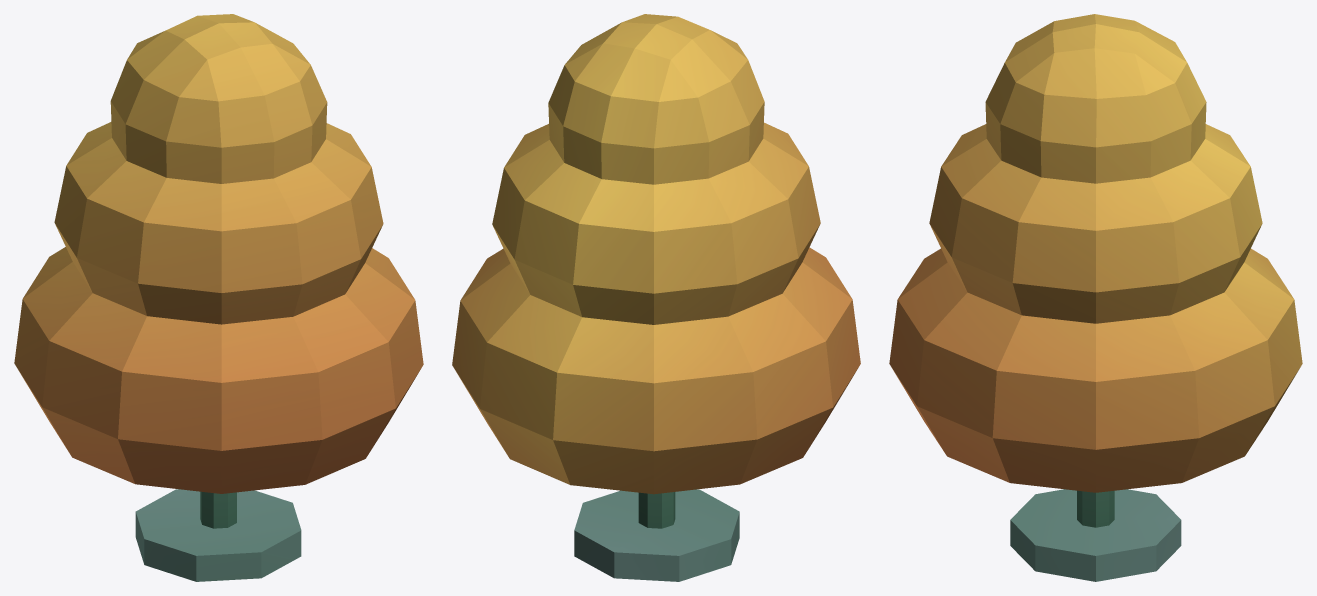
File: sp_lamp_decoration_a.fbx
3 views of the same model, side by side, from view 1: azimuth 30°, elevation 25°; view 2: azimuth 150°, elevation 25°; view 3: azimuth 270°, elevation 25° (orthographic).
Visible parts, largest first — view 1: sp_lamp_decoration_a; view 2: sp_lamp_decoration_a; view 3: sp_lamp_decoration_a.
Boxes of the visible parts, x1,y1,x2,y2 form: sp_lamp_decoration_a: (14,14,423,581); sp_lamp_decoration_a: (452,14,860,581); sp_lamp_decoration_a: (889,14,1302,581).
Bounding box in the file's own units: 24.86 × 35.14 × 25.21.
